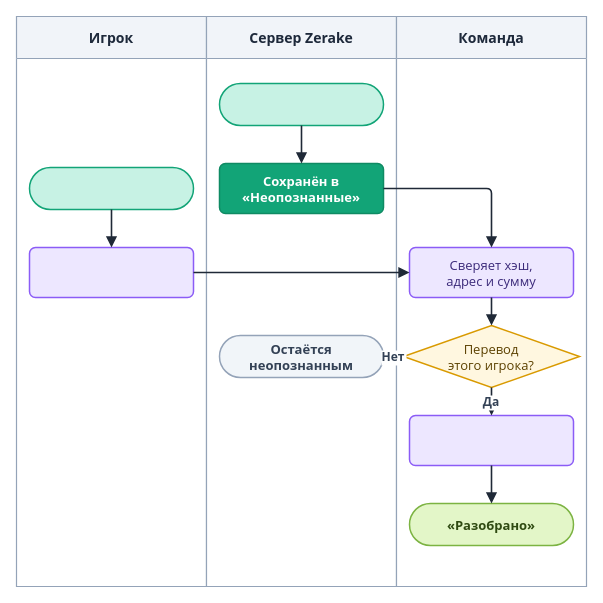
Image size: 603x603. Some labels were removed from this diagram. The centre of each missing label's shape, as x and y in pixels:
"Оформляет пополнение, выдаёт фишки" belongs at pixel 491 440.
"Перевод не совпал ни с одной заявкой" belongs at pixel 301 104.
"Пишет в поддержку: хэш перевода" belongs at pixel 111 272.
"Фишки не пришли" belongs at pixel 111 188.
